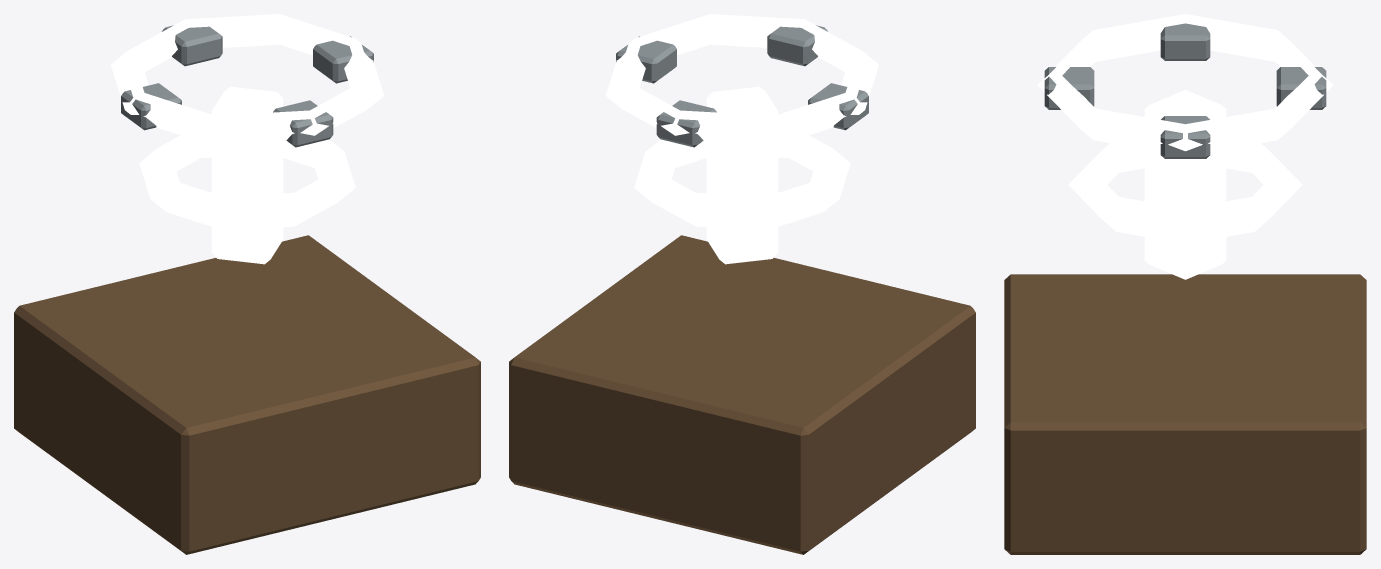
Rendered from town_ward_focus.lod1.glb.
3 views of the same model, side by side, from view 1: azimuth 30°, elevation 25°; view 2: azimuth 150°, elevation 25°; view 3: azimuth 270°, elevation 25° (orthographic). The views are drawn at different scales.
Bounding box in the file's own units: 1.02 × 1.28 × 1.02.
